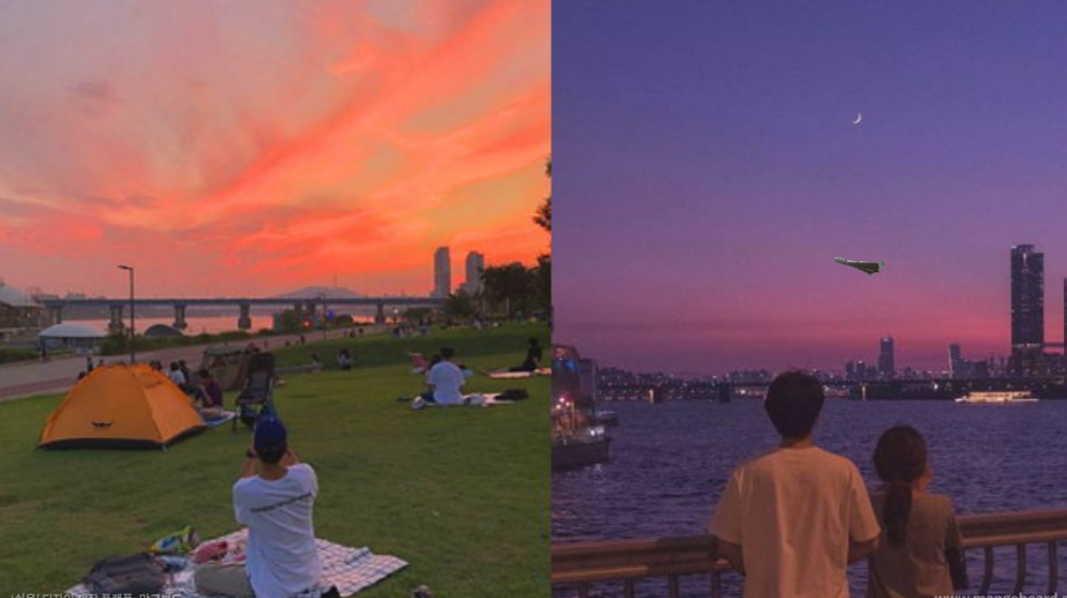military drone: (833, 256, 885, 276)
